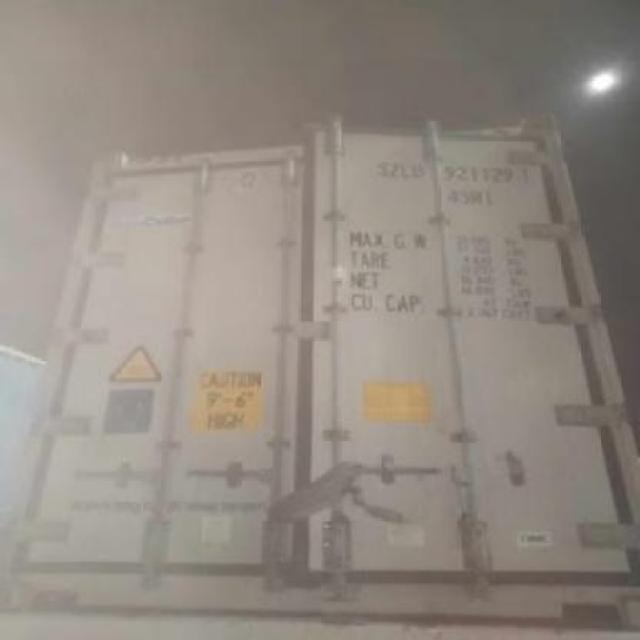ISO: (440, 188, 500, 212)
container_number: (364, 152, 547, 188)
